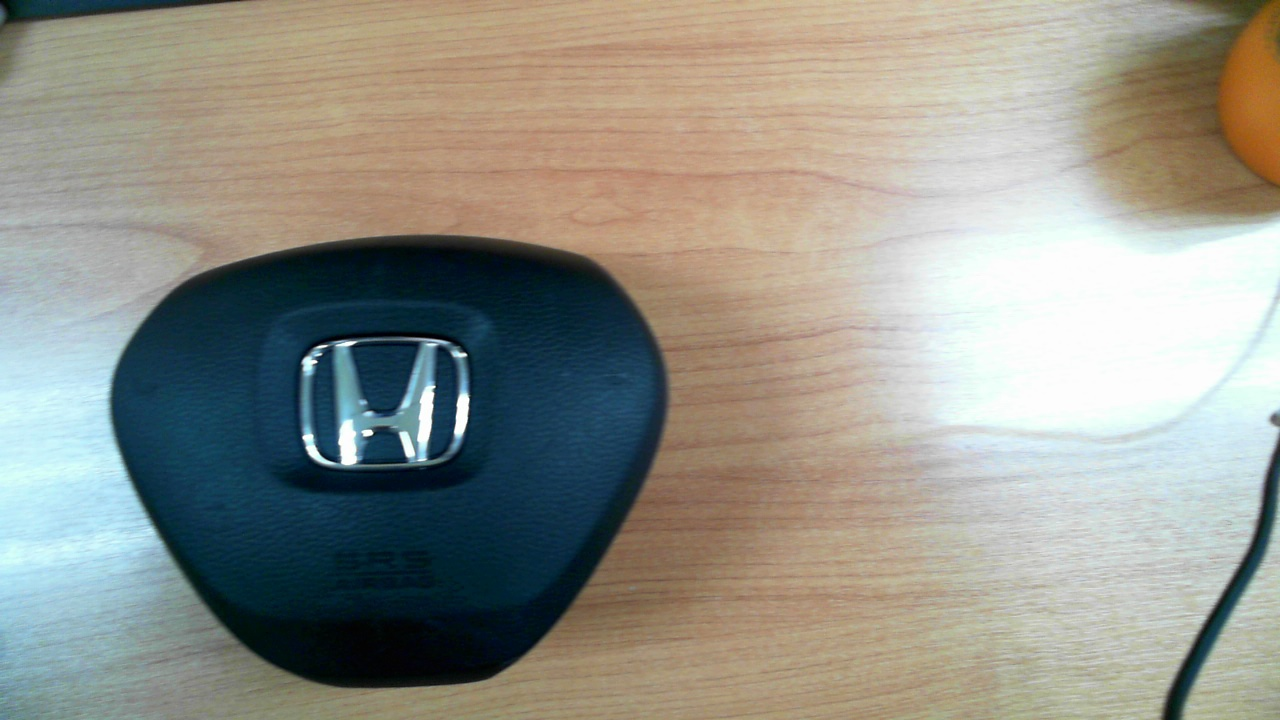Airbag: (109, 234, 669, 689)
Honda: (300, 336, 470, 469)
